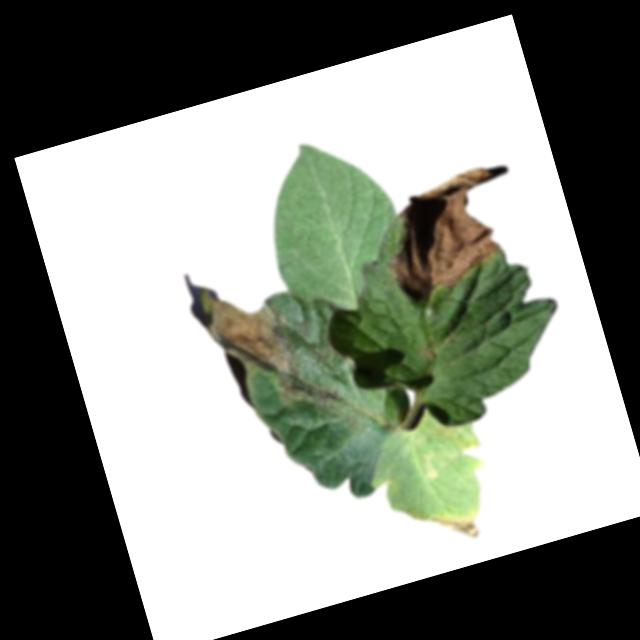Late_blight: (369, 165, 519, 313), (183, 259, 307, 418), (430, 504, 485, 548)
